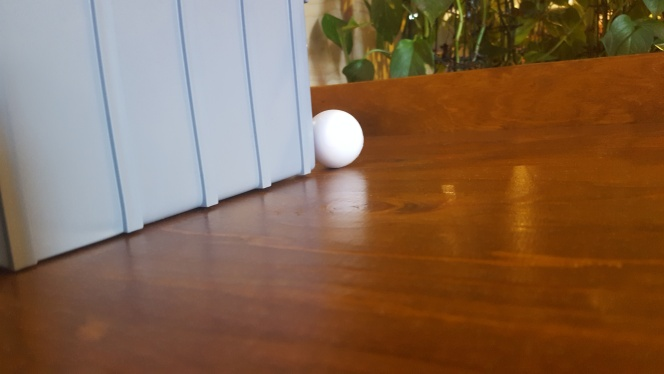egg: (313, 107, 365, 170)
tray_right: (1, 1, 317, 272)
